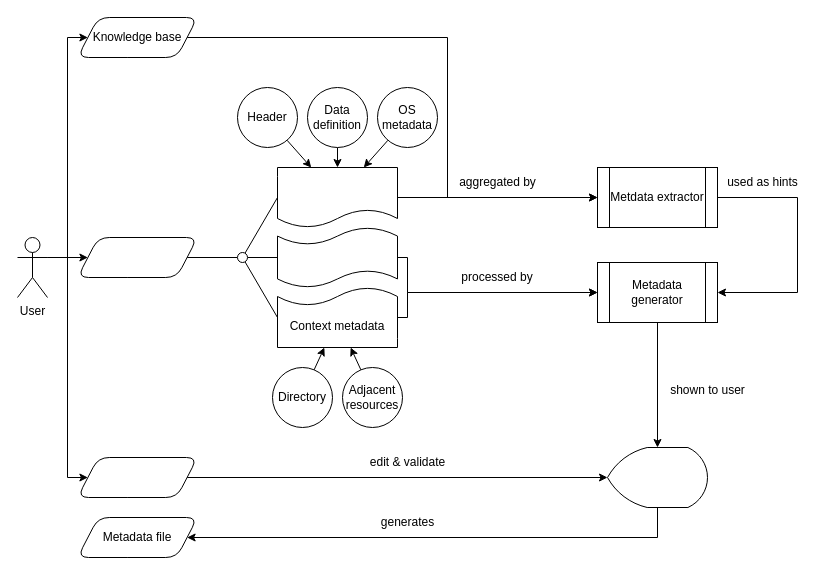
This 825x575 diagram has some shape labels left out. The shapes that lost their labels are listed below. From the top down, each one's centre as x and y in pixels, then its label:
pixel 337 197: Contained metadata
pixel 137 257: Input resource
pixel 337 257: Data content
pixel 137 477: Manual input
pixel 657 477: Editor GUI
